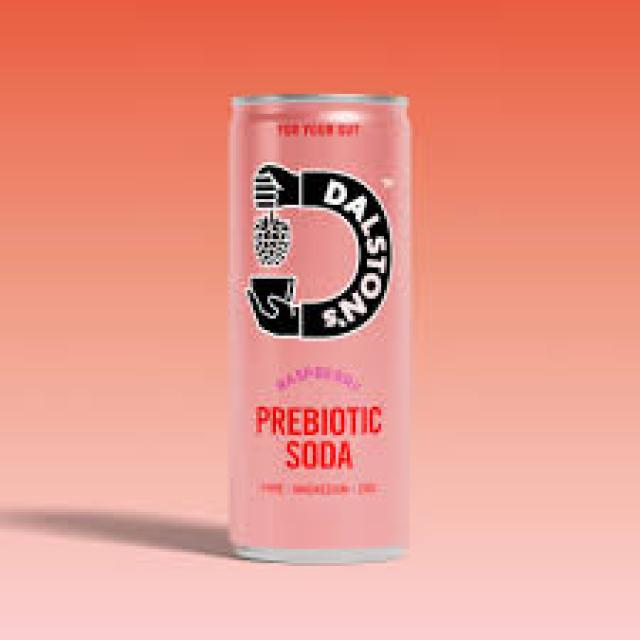Cans: (213, 85, 421, 569)
